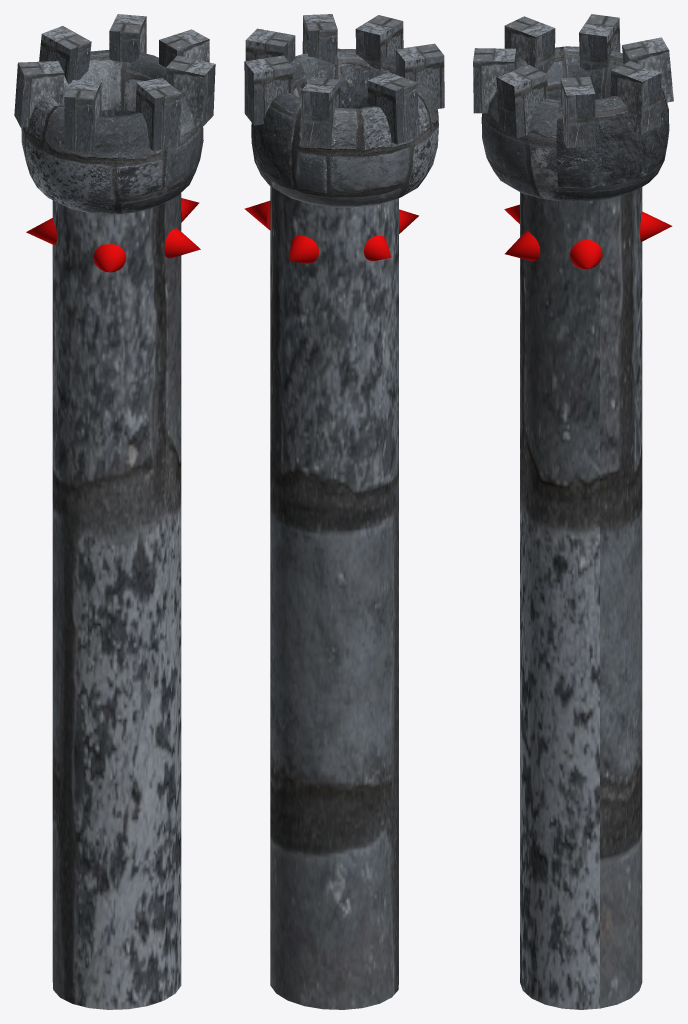
Rendered from CastlePillarTallerTop.fbx.
3 renders of one model, left to right at view 1: azimuth 30°, elevation 25°; view 2: azimuth 150°, elevation 25°; view 3: azimuth 270°, elevation 25°, orthographic.
Parts seen in each view (by area): view 1: piller; view 2: piller; view 3: piller.
Part boxes in pixels (x1,y1,x2,y2): piller: (14,14,215,1009); piller: (244,14,444,1009); piller: (473,14,673,1009).
Bounding box in the file's own units: 12.47 × 62.59 × 12.26.
